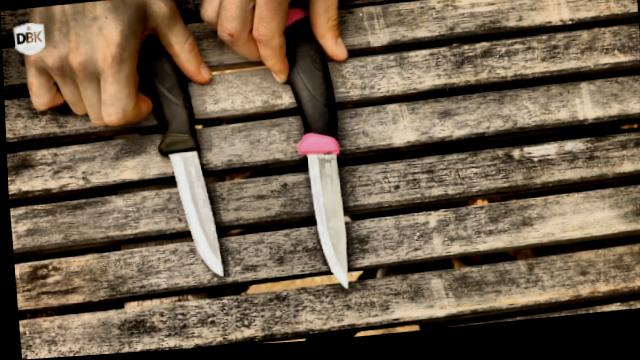knife: (103, 50, 228, 292), (258, 39, 367, 302)
